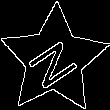N_NE: (23, 29, 85, 90)
